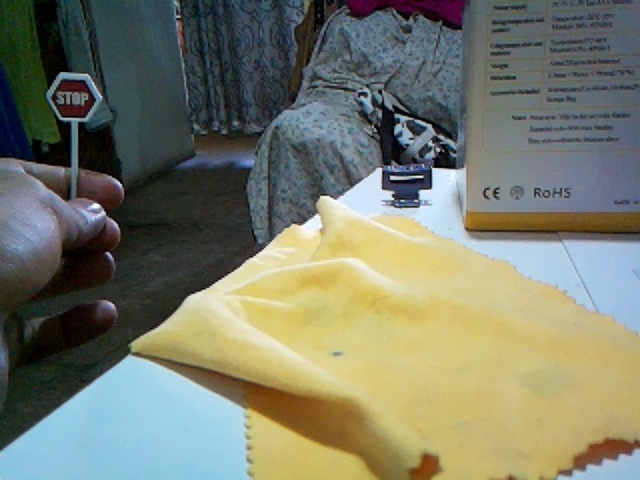stop_sign: (47, 72, 101, 121)
